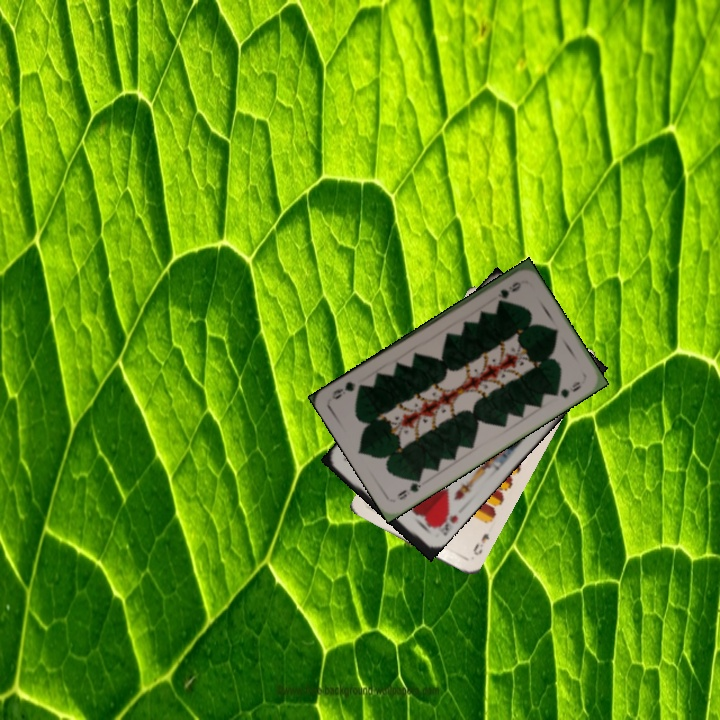E9: (469, 529, 492, 558)
G9: (393, 473, 424, 503), (494, 278, 524, 304)
HK: (429, 505, 461, 538)
